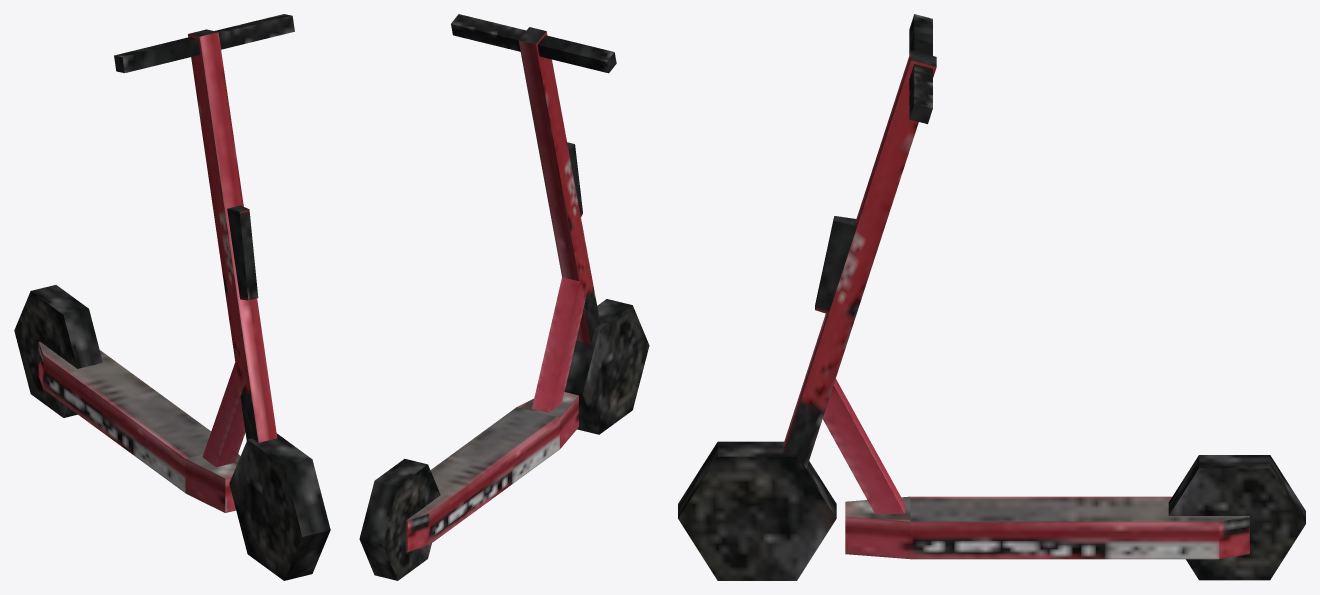
File: EScooter01.obj
3 views of the same model, side by side, from view 1: azimuth 30°, elevation 25°; view 2: azimuth 150°, elevation 25°; view 3: azimuth 270°, elevation 25° (orthographic). The views are drawn at different scales.
Visible parts, largest first — view 1: EScooter01; view 2: EScooter01; view 3: EScooter01.
Part boxes in pixels (x1=…): EScooter01: x1=14, y1=14, x2=330, y2=580; EScooter01: x1=359, y1=14, x2=649, y2=580; EScooter01: x1=678, y1=14, x2=1305, y2=580.
Size of the model in its own units: 0.54 by 1.45 by 1.59.
